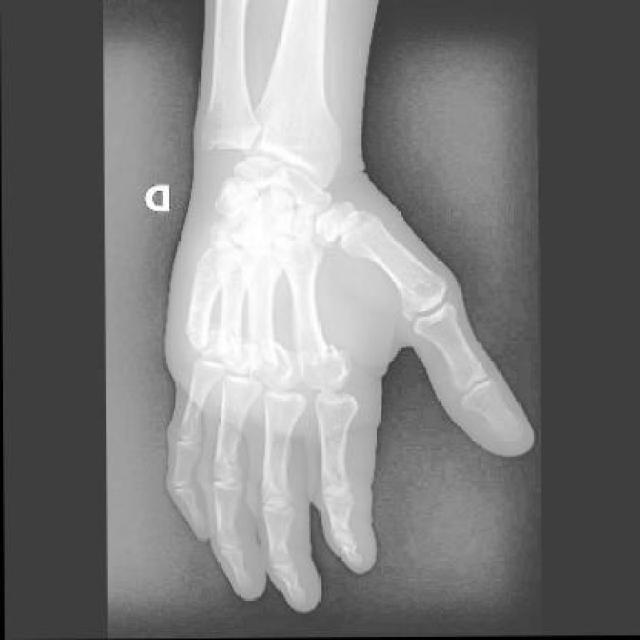Fracture: (245, 338, 293, 388), (300, 340, 344, 391), (183, 313, 222, 361), (214, 330, 254, 372)
